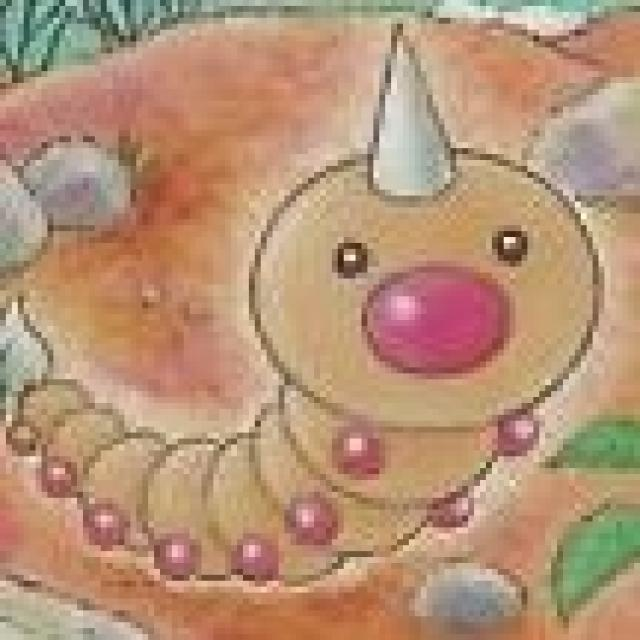Weedle: (0, 81, 603, 585)
